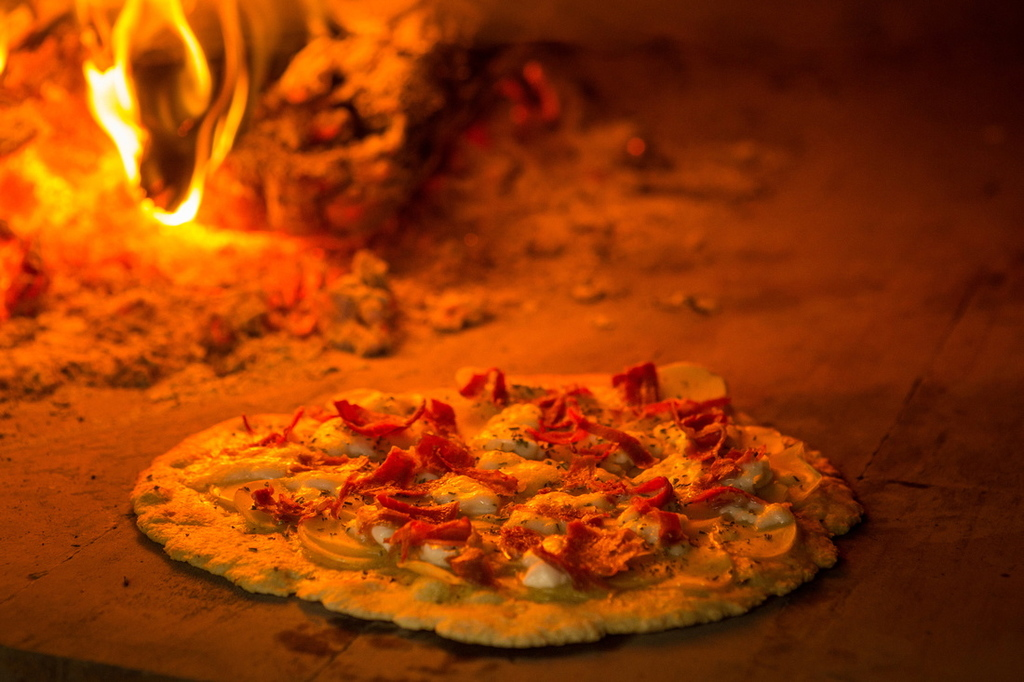Pizza: (140, 354, 830, 652)
